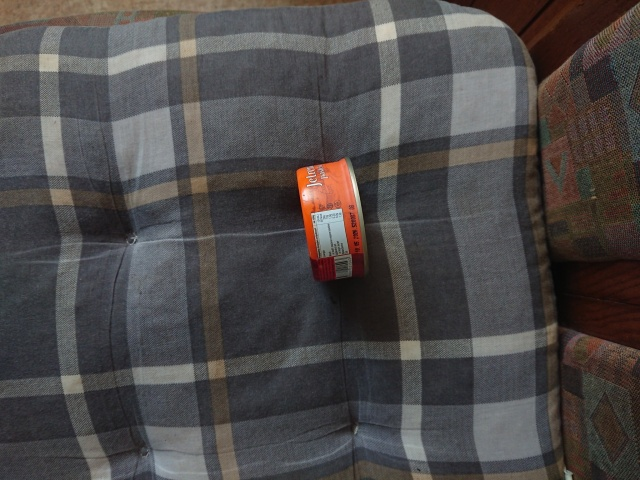Gavrilovic Pork Liver Pate 100g: (293, 153, 374, 285)
